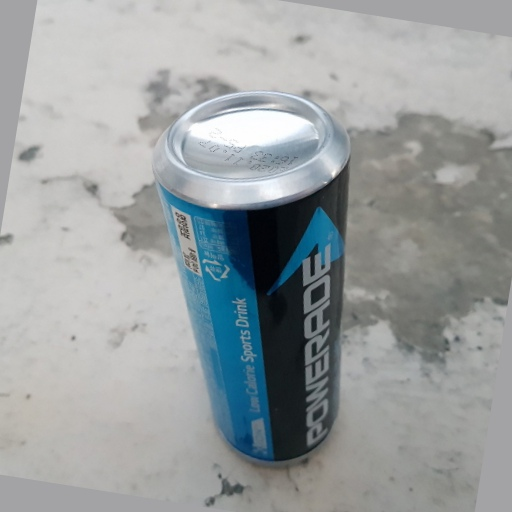Metal_0: (155, 88, 348, 470)
